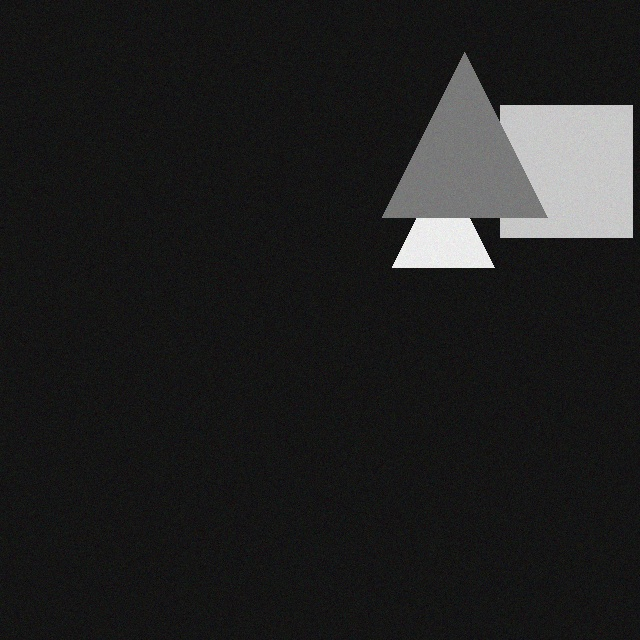square: (485, 111, 617, 243)
triangle: (367, 58, 532, 223), (377, 171, 479, 273)
